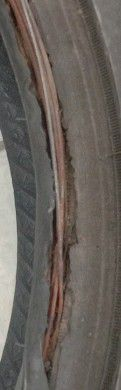bead_damage: (3, 1, 84, 354)
